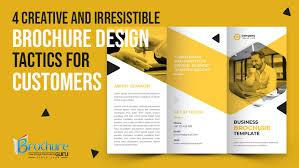paper: (97, 27, 287, 154)
